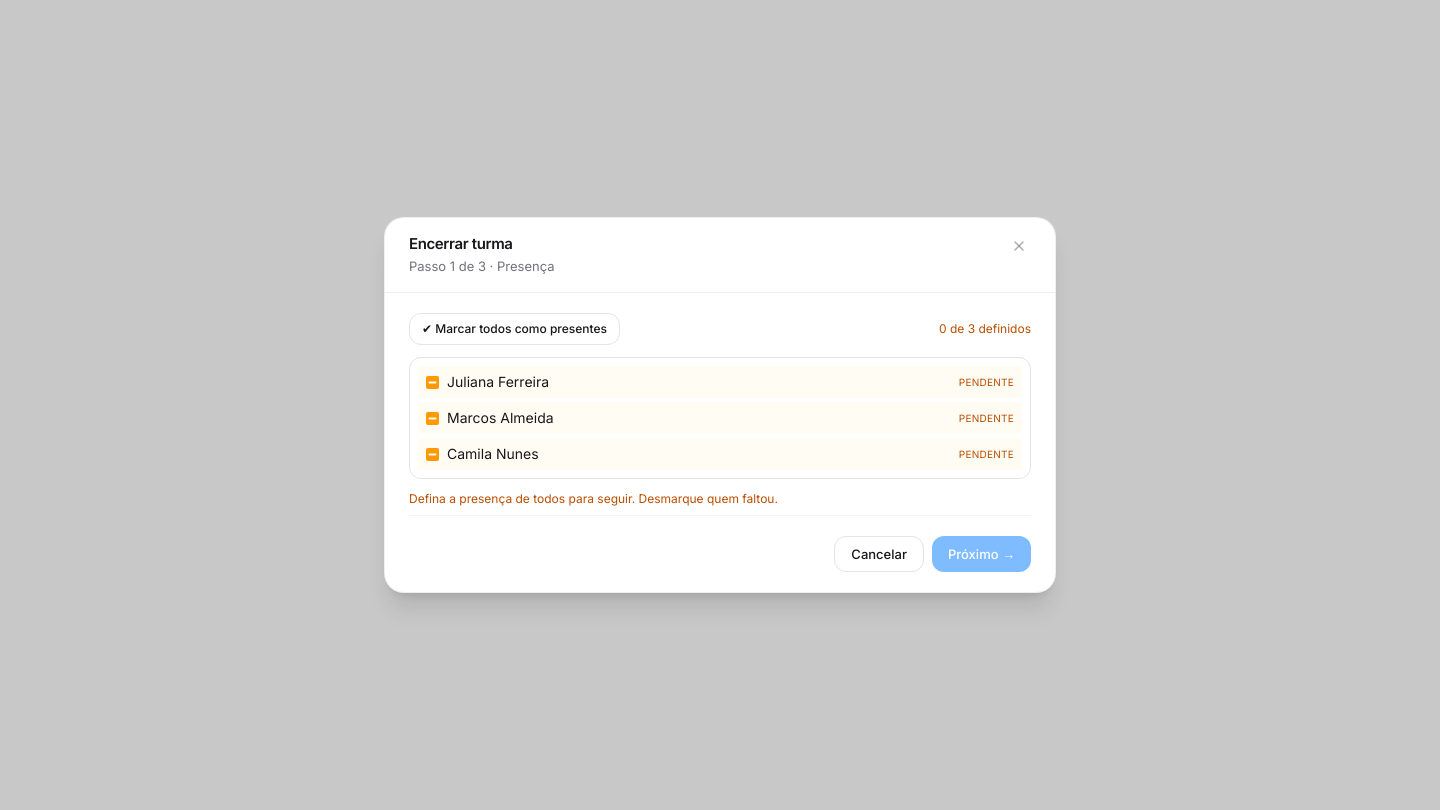
Test: Assistente de encerramento de turma › “marcar todos como presentes” resolve a pendência de uma vez
Click the button "✔ Marcar todos como presentes" at (514, 329), box [409, 313, 620, 345]
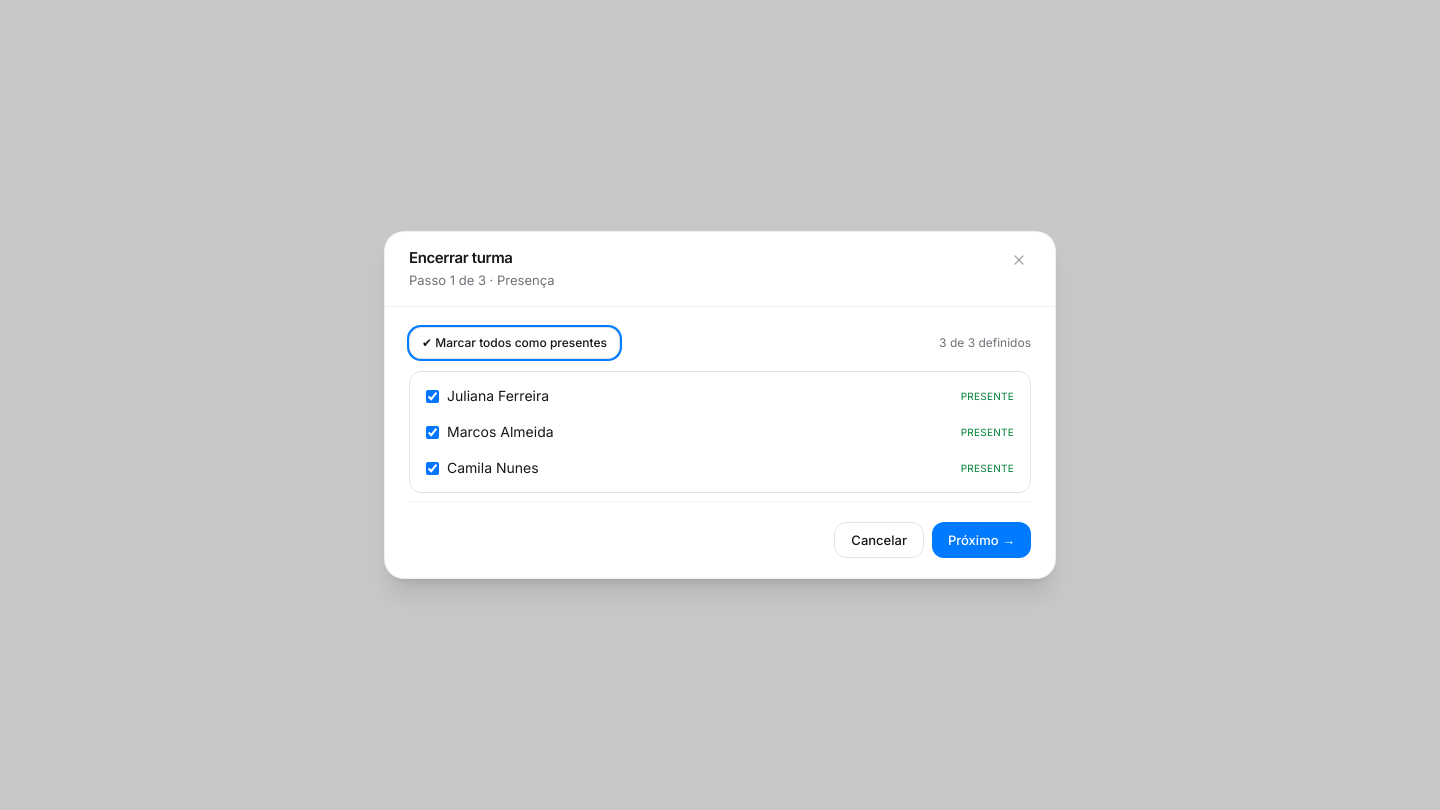
Check: the text "Presente" is shown 3 times, box [961, 389, 1014, 403]; [961, 425, 1014, 439]; [961, 461, 1014, 475]
Check: the text "3 de 3 definidos" is shown, box [939, 335, 1031, 351]
Check: the button "Próximo →" is enabled, box [932, 522, 1031, 558]
